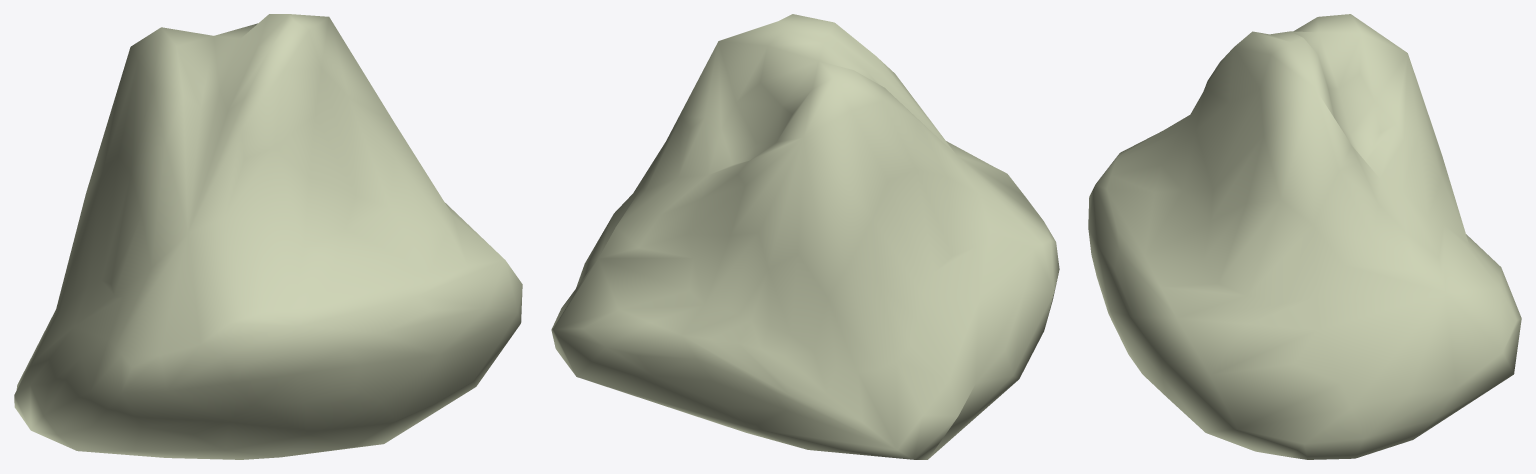
File: volcano.obj
3 renders of one model, left to right at view 1: azimuth 30°, elevation 25°; view 2: azimuth 150°, elevation 25°; view 3: azimuth 270°, elevation 25°, orthographic. The views are drawn at different scales.
Parts seen in each view (by area): view 1: RandomHull; view 2: RandomHull; view 3: RandomHull.
Boxes of the visible parts, x1,y1,x2,y2 form: RandomHull: (14,14,522,459); RandomHull: (551,14,1059,459); RandomHull: (1088,14,1521,459).
Bounding box in the file's own units: 3.5 × 3 × 3.22.
